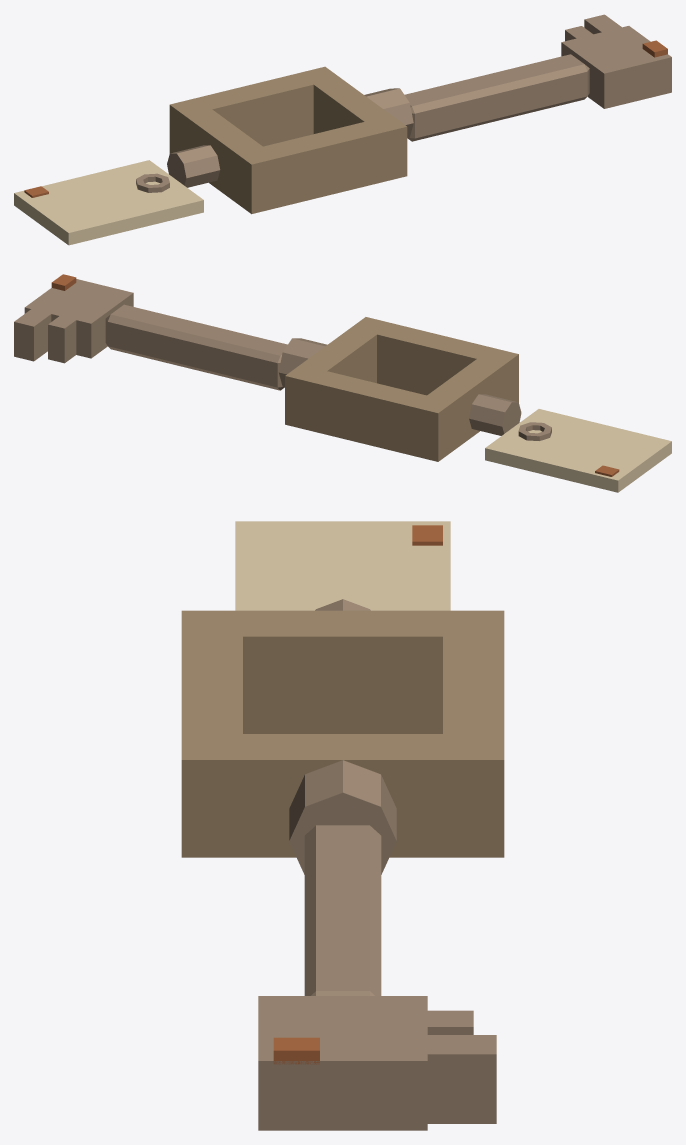
The model's file is maintenance_key_saltflat.glb.
3 renders of one model, top to bottom at view 1: azimuth 30°, elevation 25°; view 2: azimuth 150°, elevation 25°; view 3: azimuth 270°, elevation 25°, orthographic. The views are drawn at different scales.
Visible parts, largest first — view 1: Key_Body; view 2: Key_Body; view 3: Key_Body.
Part boxes in pixels (x1=…): Key_Body: x1=14, y1=14, x2=671, y2=245; Key_Body: x1=14, y1=274, x2=671, y2=492; Key_Body: x1=181, y1=521, x2=504, y2=1130.
Bounding box in the file's own units: 0.18 × 0.014 × 0.042.
